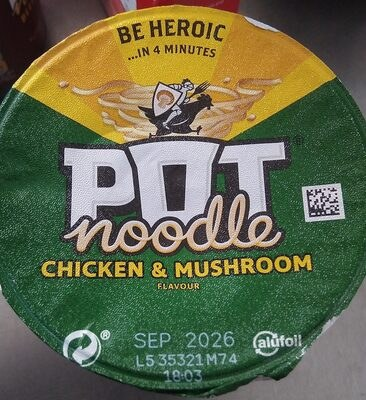Chicken & Mushroom Flavour: (18, 20, 348, 380)
